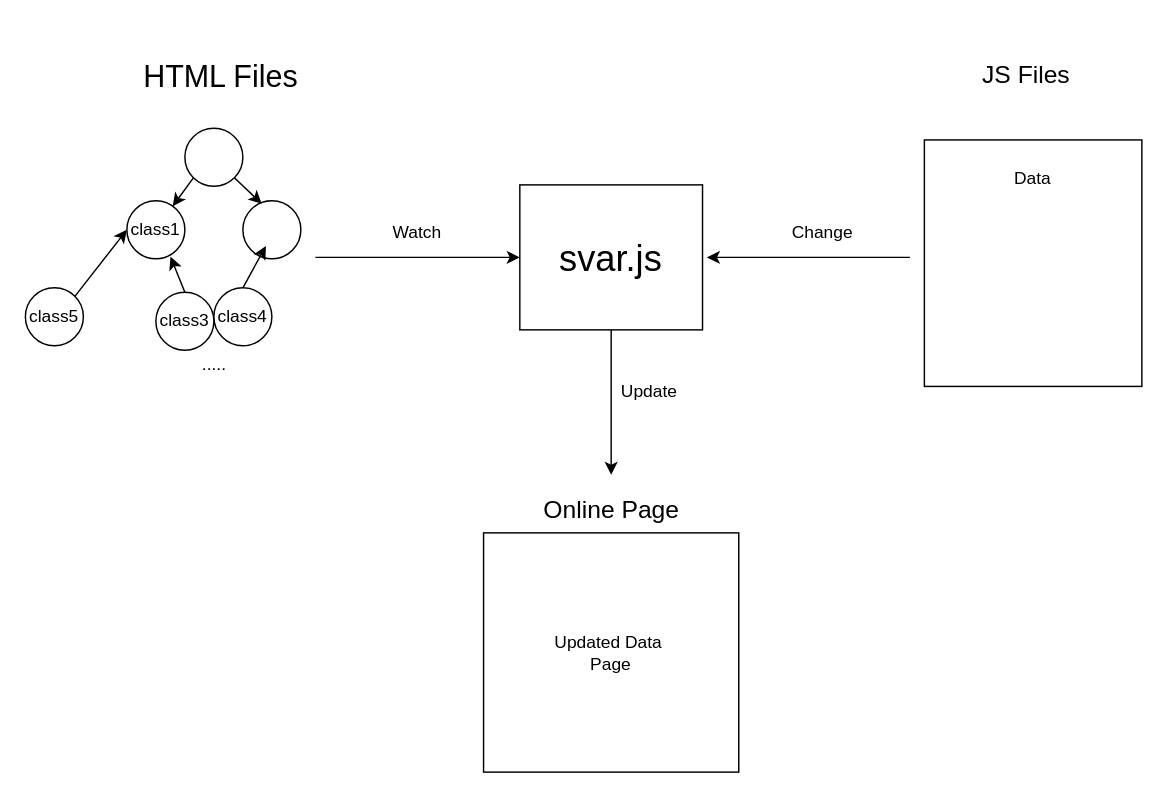
Image size: 1167x798. Some labels were removed from this diagram. The box of each missing label's shape, as (x1, y1, x2, y2) in pixels:
class2: (241, 199, 301, 259)
root: (183, 127, 243, 186)
some Condition data has changed: (923, 138, 1142, 386)
